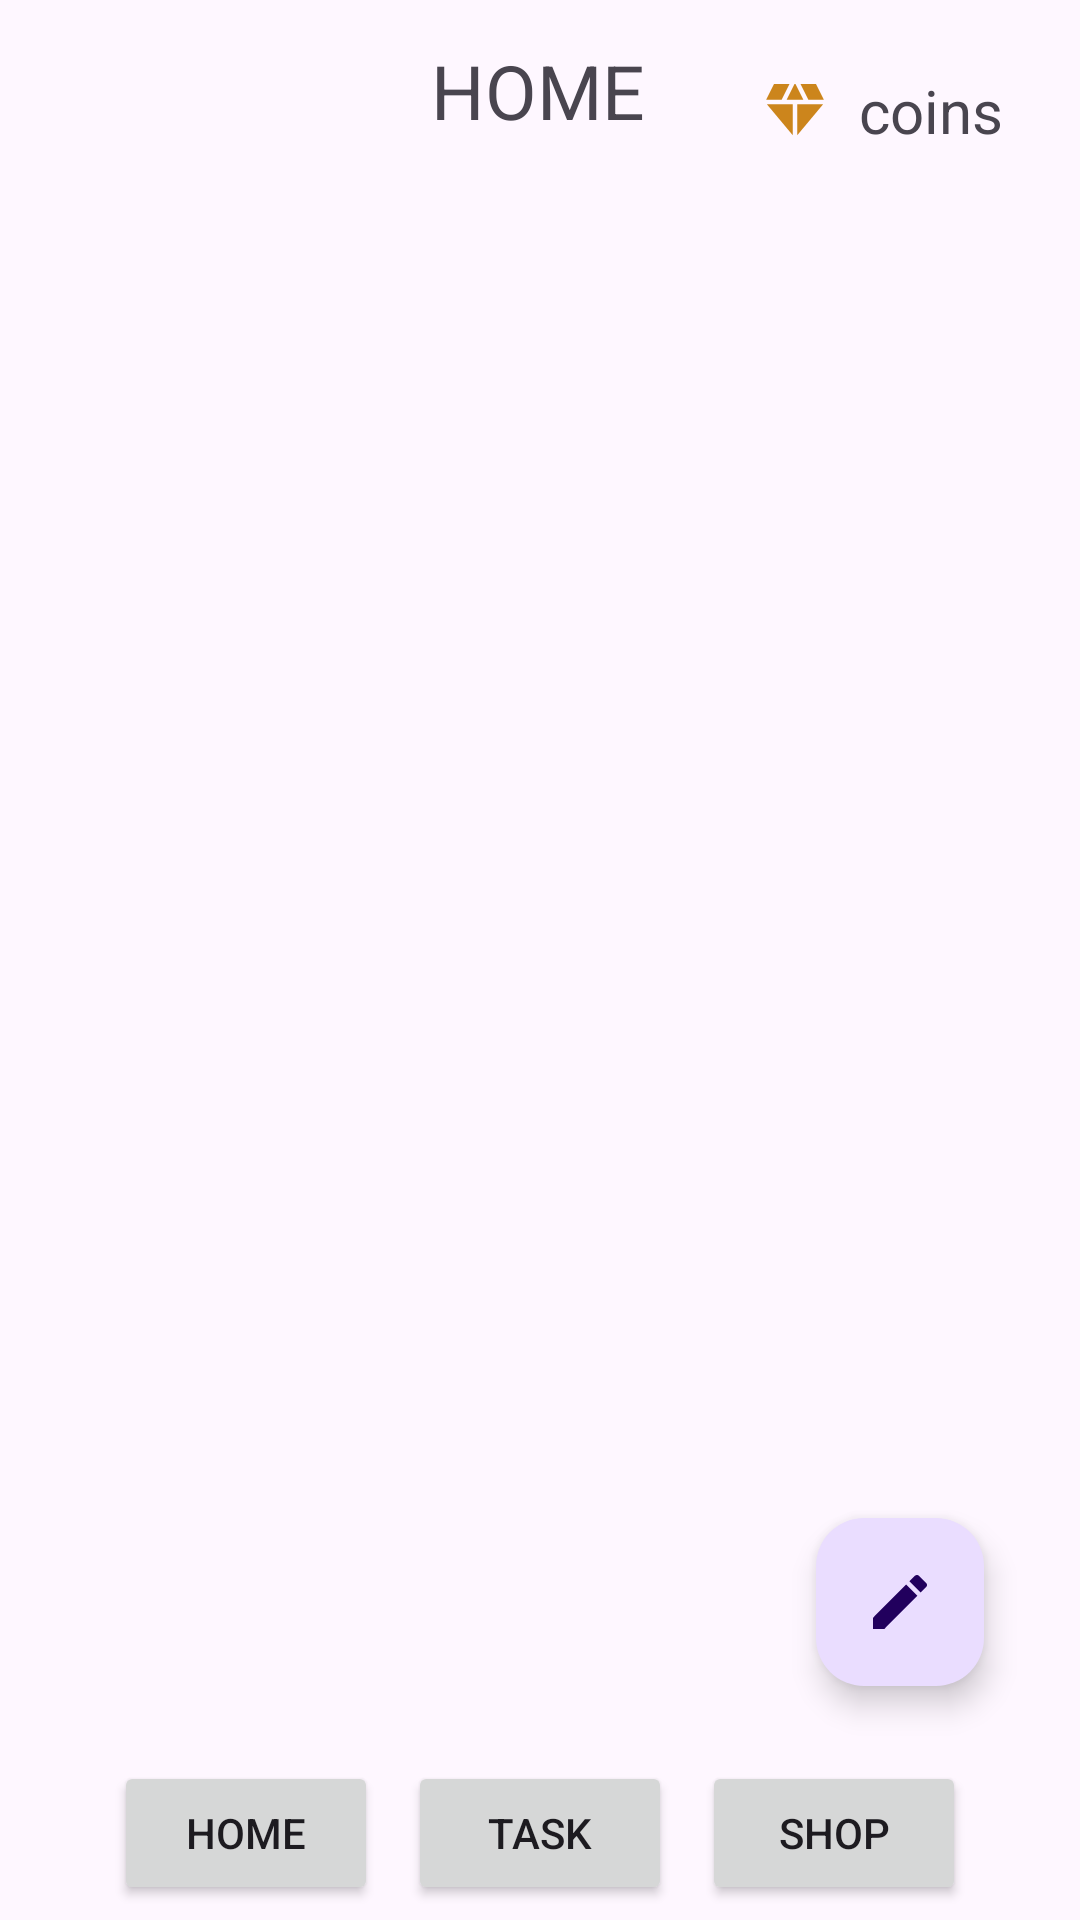

Point at icon controls on the screen. Image size 1080px x 1920px, points as point (x, y).
Create button: point (900, 1602)
